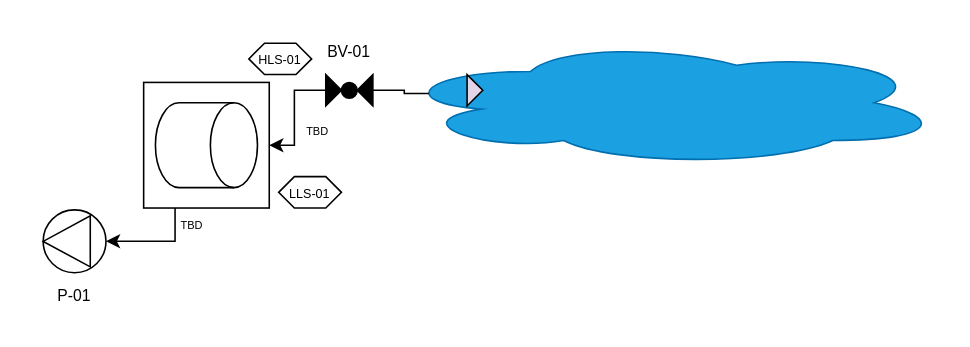
Some shapes in this 970 by 347 pixel diagram are drawn without their labels. The box of each missing label's shape, as (x1, y1, x2, y2) in pixels:
50 mm: (392, 38, 943, 166)
RDF: (154, 101, 257, 188)
